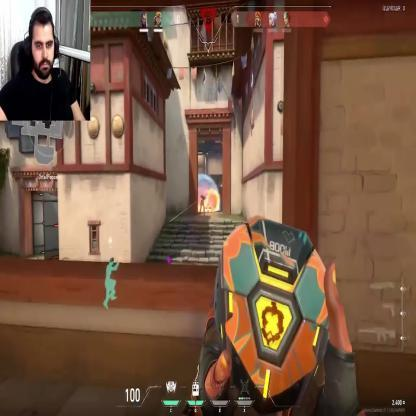enemy: (198, 193, 206, 215)
enemy_head: (201, 193, 203, 196)
